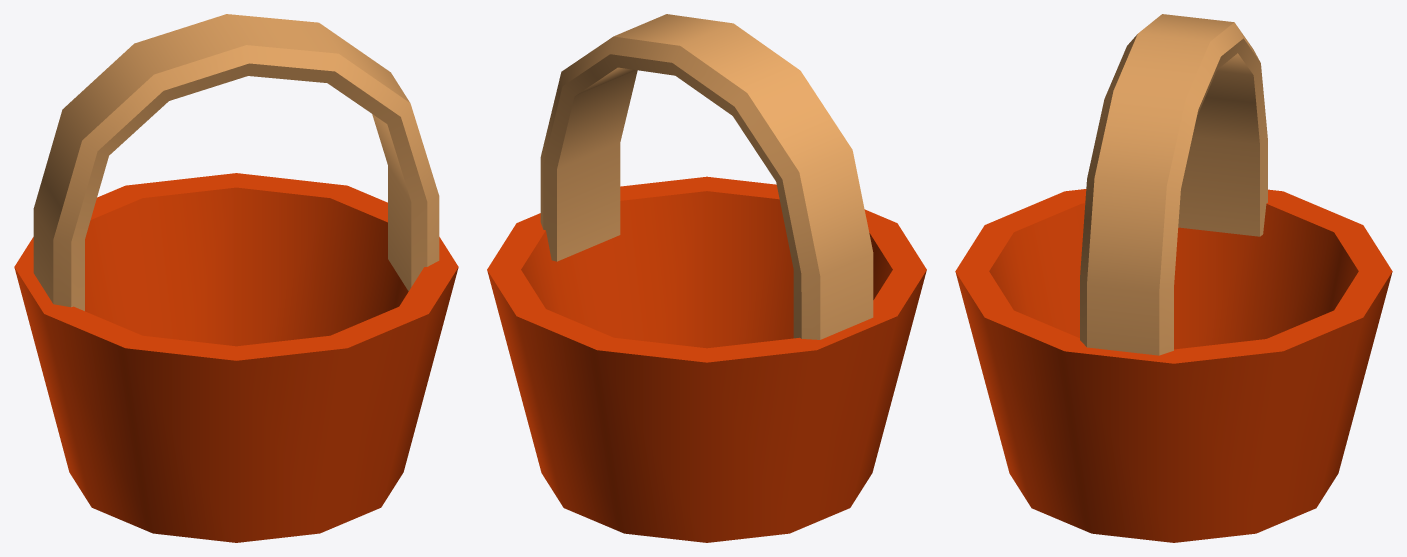
The model's file is m_basket.fbx.
3 renders of one model, left to right at view 1: azimuth 30°, elevation 25°; view 2: azimuth 150°, elevation 25°; view 3: azimuth 270°, elevation 25°, orthographic.
Parts seen in each view (by area): view 1: m_basket; view 2: m_basket; view 3: m_basket.
Part boxes in pixels (bbox=[...]): m_basket: bbox=[14, 14, 458, 542]; m_basket: bbox=[487, 14, 926, 542]; m_basket: bbox=[955, 14, 1392, 542].
Size of the model in its own units: 82.11 by 90.28 by 82.11.
